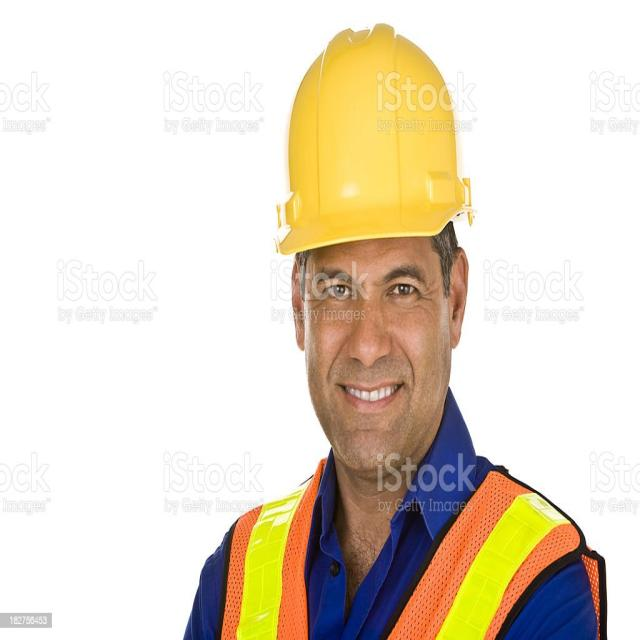helmet: (272, 20, 484, 251)
no-goggles: (301, 256, 449, 318)
vest: (223, 460, 610, 640)
